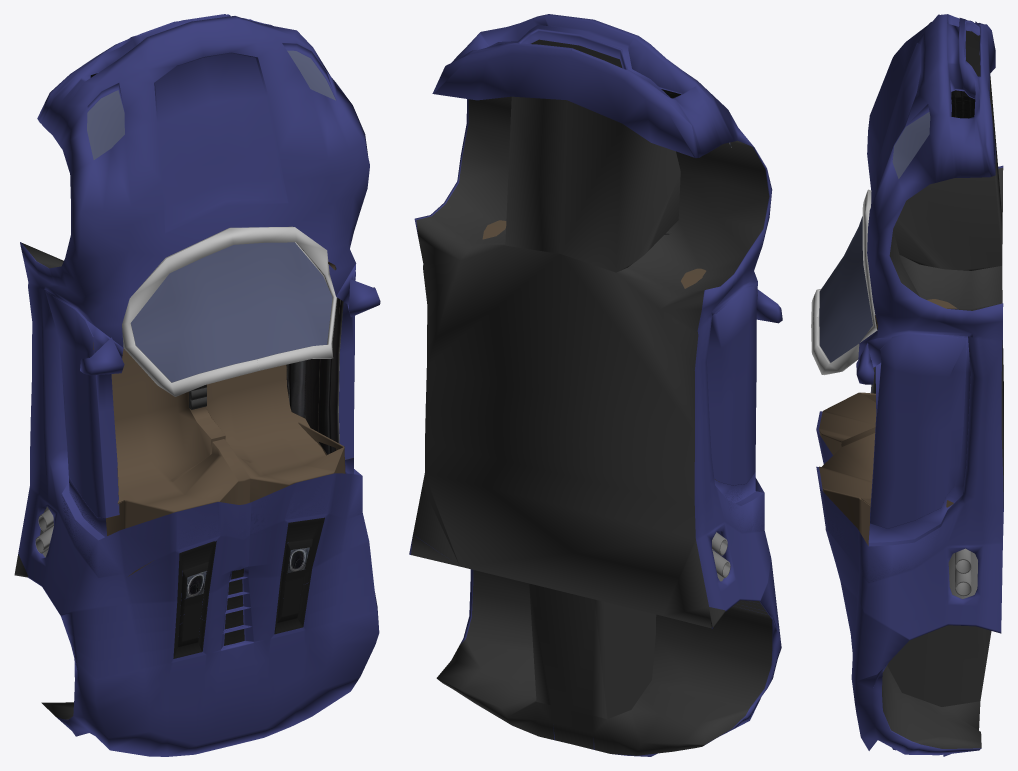
The model's file is 918car.obj.
The picture shows the model from 3 angles, left to right: view 1: azimuth 30°, elevation 25°; view 2: azimuth 150°, elevation 25°; view 3: azimuth 270°, elevation 25°; orthographic projection. The views are drawn at different scales.
Parts seen in each view (by area): view 1: 918car; view 2: 918car; view 3: 918car.
Boxes of the visible parts, left/top/right/bottom form: 918car: left=14, top=14, right=380, bottom=756; 918car: left=409, top=14, right=782, bottom=756; 918car: left=811, top=14, right=1003, bottom=756.
Size of the model in its own units: 2.04 by 4.64 by 1.15.
8 materials, 8 textured.
